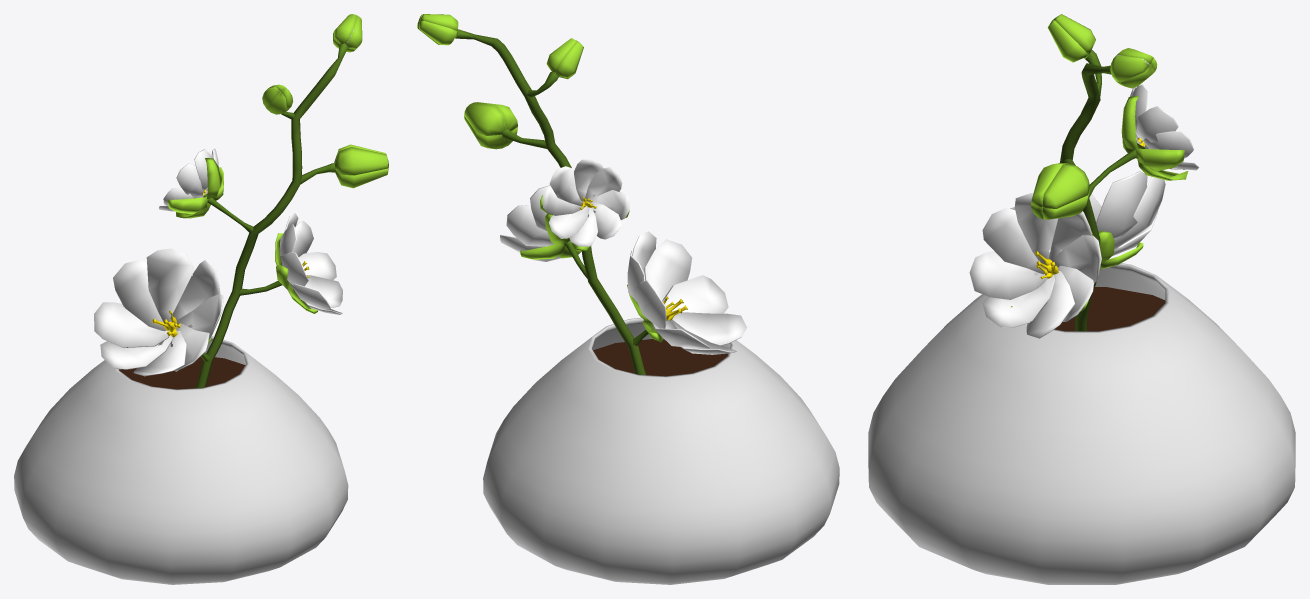
File: flower.dae
The picture shows the model from 3 angles, left to right: view 1: azimuth 30°, elevation 25°; view 2: azimuth 150°, elevation 25°; view 3: azimuth 270°, elevation 25°; orthographic projection. The views are drawn at different scales.
Visible parts, largest first — view 1: Flower; view 2: Flower; view 3: Flower.
Boxes of the visible parts, x1,y1,x2,y2 form: Flower: [14, 14, 388, 584]; Flower: [417, 14, 839, 584]; Flower: [868, 14, 1295, 584].
Bounding box in the file's own units: 0.3657 × 0.3004 × 0.4759.
Materials: 1 (1 with a texture image).
